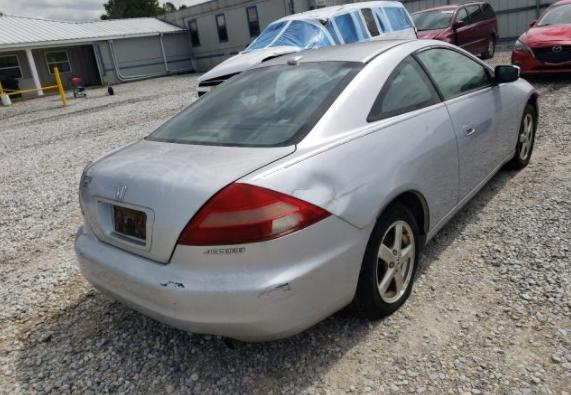Back-bumper: (76, 215, 375, 341)
Back-wheel: (351, 200, 420, 318)
Back-window: (367, 54, 443, 122)
Back-windshield: (146, 61, 366, 147)
Fender: (507, 78, 538, 142)
Front-door: (411, 45, 518, 203)
Front-wheel: (505, 104, 535, 170)
Front-window: (417, 48, 489, 97)
License-plate: (114, 206, 146, 239)
Mirror: (493, 64, 521, 85)
Quarter-panel: (234, 102, 460, 232), (93, 137, 144, 162)
Rocker-panel: (423, 149, 515, 248)
Roof: (251, 39, 423, 69)
Tail-light: (177, 183, 333, 247)
Trunk: (79, 139, 295, 263)
